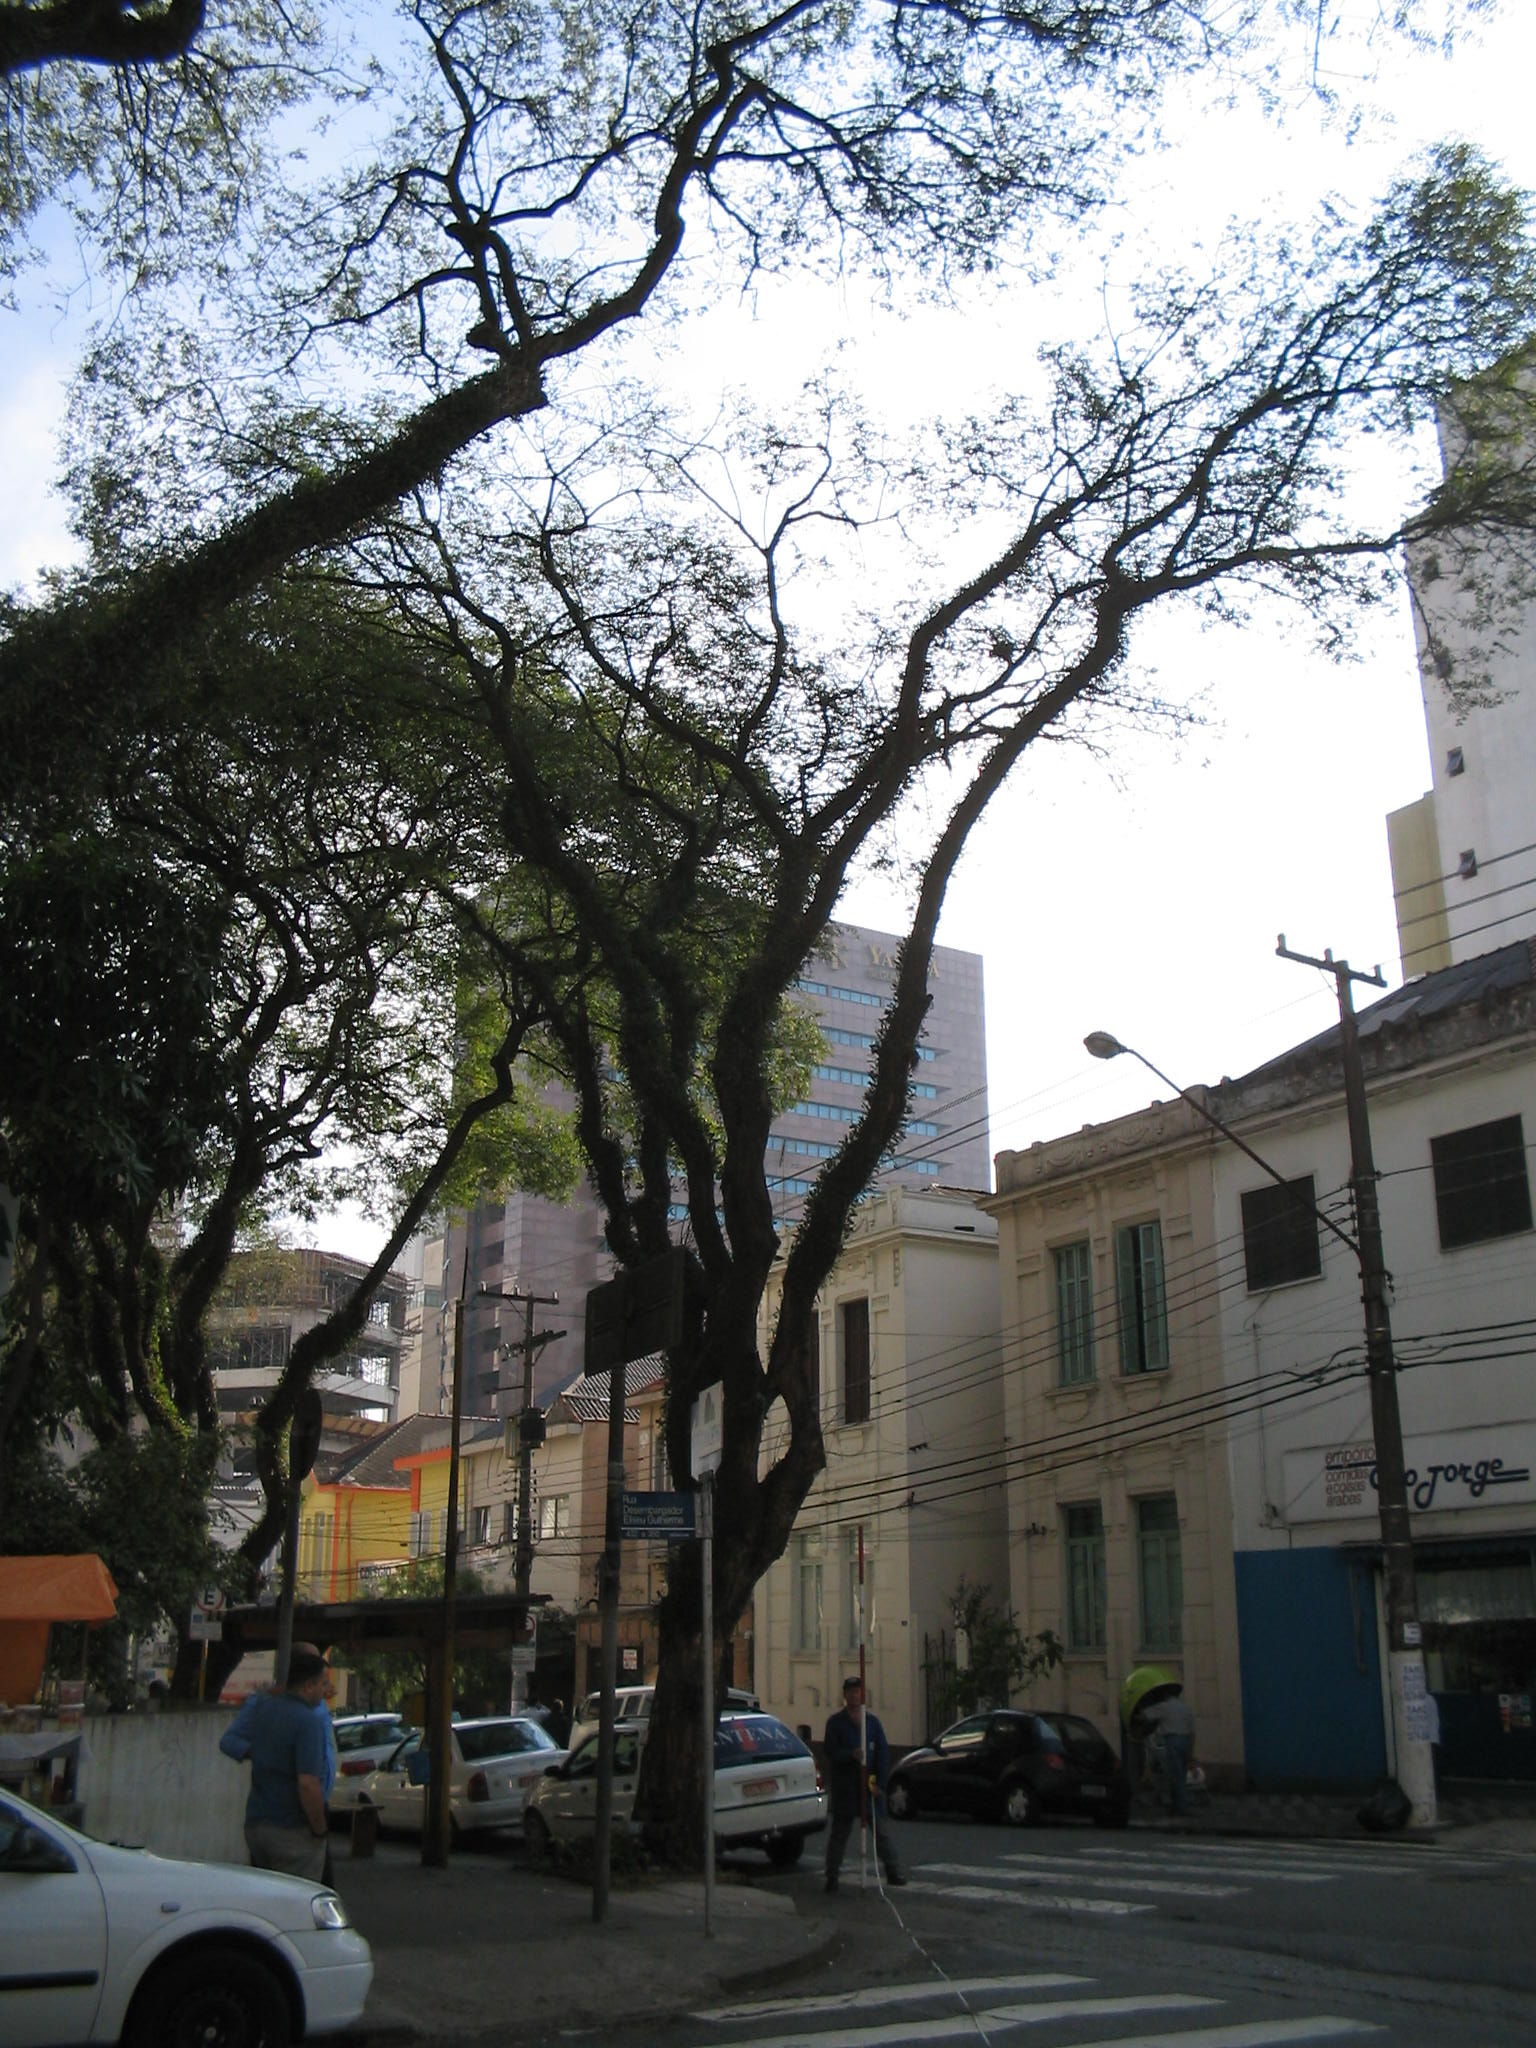stem: (624, 1563, 783, 1867)
stick: (833, 1524, 895, 1896)
tree: (119, 137, 1533, 1871), (2, 516, 808, 1703)
